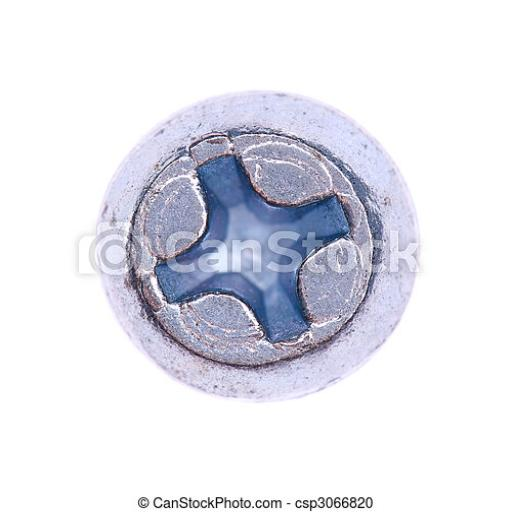Phillips: (102, 87, 416, 403)
